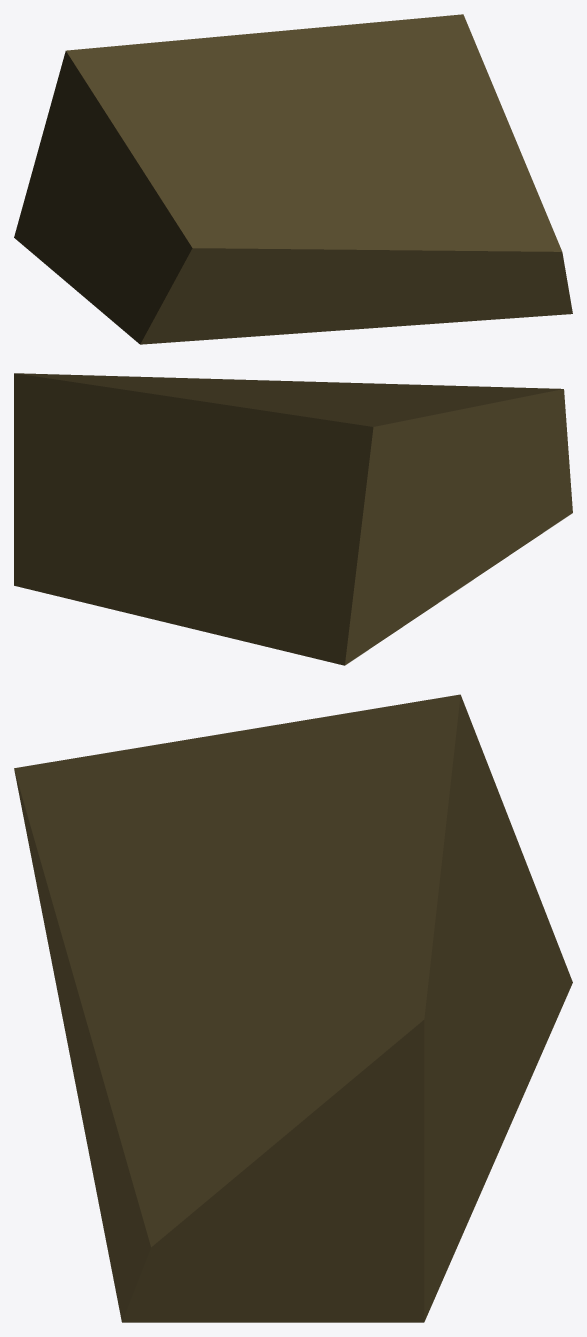
The model's file is BlackHole.Piece.02.fbx.
3 views of the same model, one above another, from view 1: azimuth 30°, elevation 25°; view 2: azimuth 150°, elevation 25°; view 3: azimuth 270°, elevation 25° (orthographic). The views are drawn at different scales.
Parts seen in each view (by area): view 1: BH.Piece.02; view 2: BH.Piece.02; view 3: BH.Piece.02.
Part boxes in pixels (x1,y1,x2,y2): BH.Piece.02: (14, 14, 572, 344); BH.Piece.02: (14, 373, 572, 665); BH.Piece.02: (14, 694, 572, 1322).
Bounding box in the file's own units: 215 × 122 × 167.
